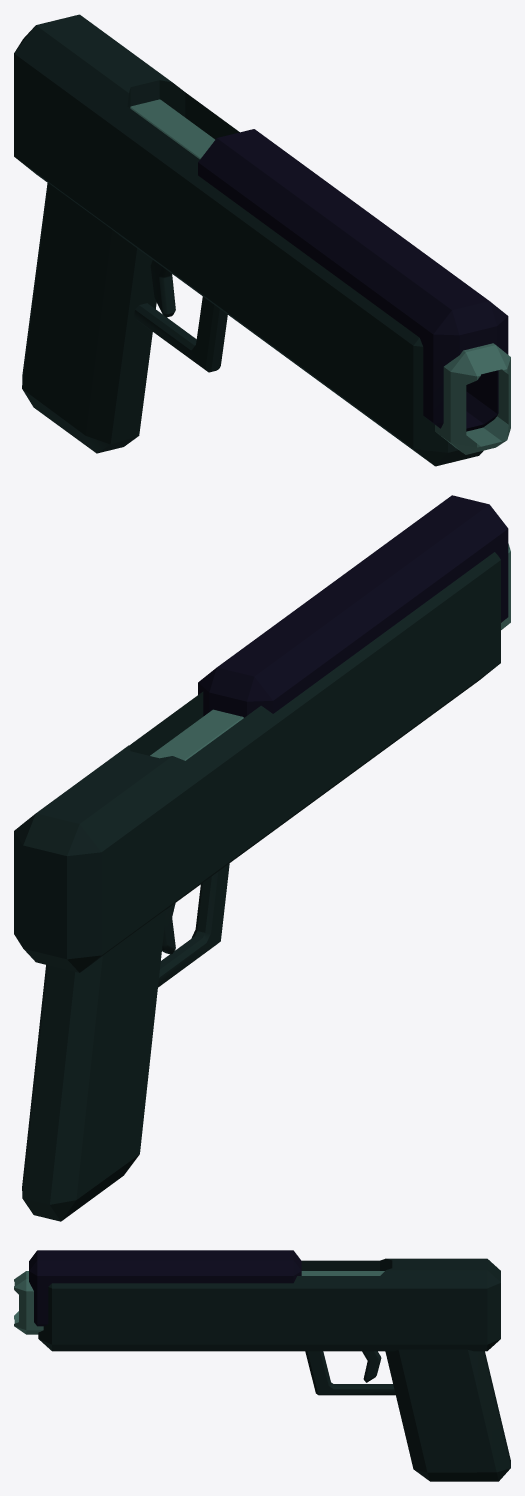
The model's file is pistol lowpoly.fbx.
The picture shows the model from 3 angles, top to bottom: view 1: azimuth 30°, elevation 25°; view 2: azimuth 150°, elevation 25°; view 3: azimuth 270°, elevation 25°; orthographic projection. The views are drawn at different scales.
Parts seen in each view (by area): view 1: pCube297; view 2: pCube297; view 3: pCube297.
Boxes of the visible parts, box(x1,y1,x2,y2) form: pCube297: box(14, 14, 510, 466); pCube297: box(14, 495, 510, 1221); pCube297: box(14, 1250, 510, 1481).
Size of the model in its own units: 27.78 by 124 by 250.
